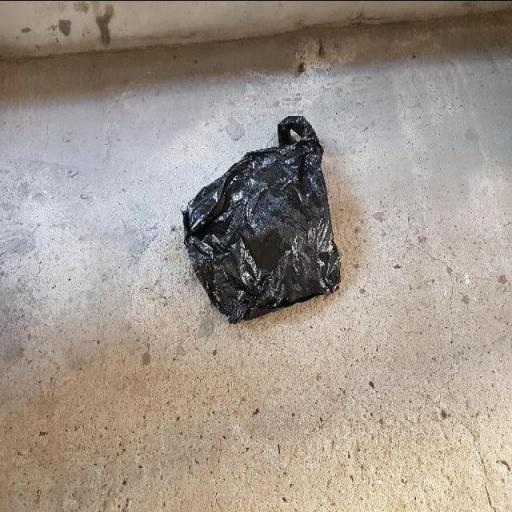plastic-bag: (181, 112, 344, 330)
